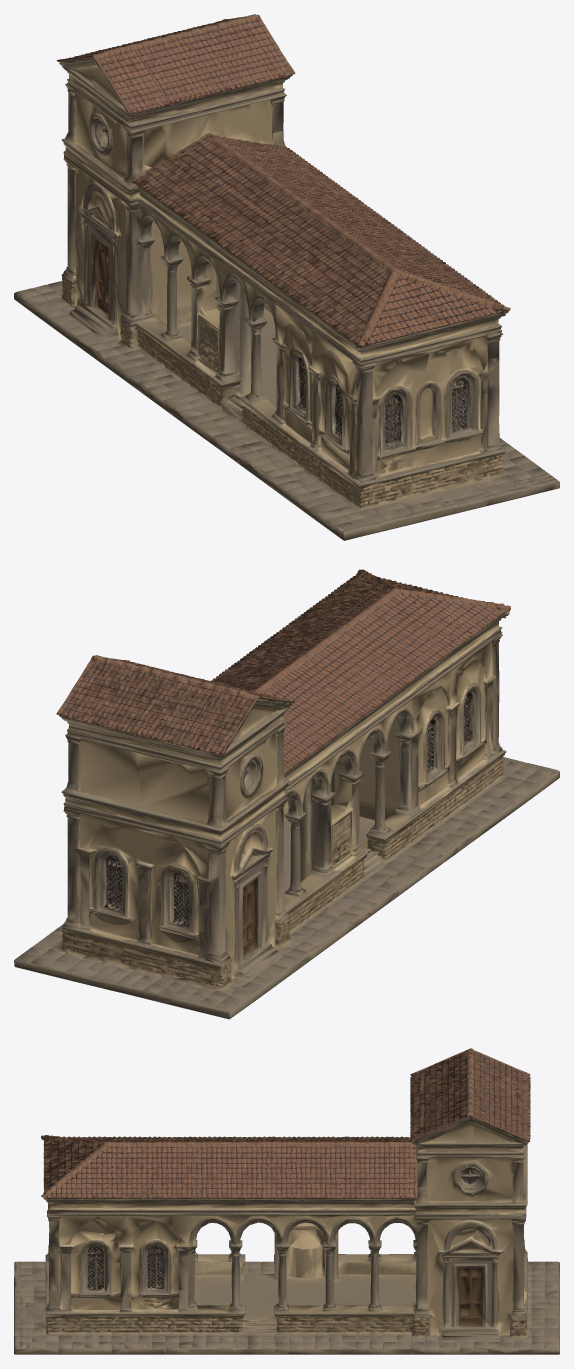
File: palazzo.glb
3 renders of one model, top to bottom at view 1: azimuth 30°, elevation 25°; view 2: azimuth 150°, elevation 25°; view 3: azimuth 270°, elevation 25°, orthographic. The views are drawn at different scales.
Visible parts, largest first — view 1: tripo_node_c1cacbeb-82f4-4ee7-bb58-949b0d442456; view 2: tripo_node_c1cacbeb-82f4-4ee7-bb58-949b0d442456; view 3: tripo_node_c1cacbeb-82f4-4ee7-bb58-949b0d442456.
Part boxes in pixels (left/top/right/bottom): tripo_node_c1cacbeb-82f4-4ee7-bb58-949b0d442456: left=14, top=14, right=559, bottom=540; tripo_node_c1cacbeb-82f4-4ee7-bb58-949b0d442456: left=14, top=569, right=559, bottom=1019; tripo_node_c1cacbeb-82f4-4ee7-bb58-949b0d442456: left=14, top=1048, right=559, bottom=1354.
Size of the model in its own units: 0.3723 by 0.4576 by 0.9815.
1 material, 1 textured.
